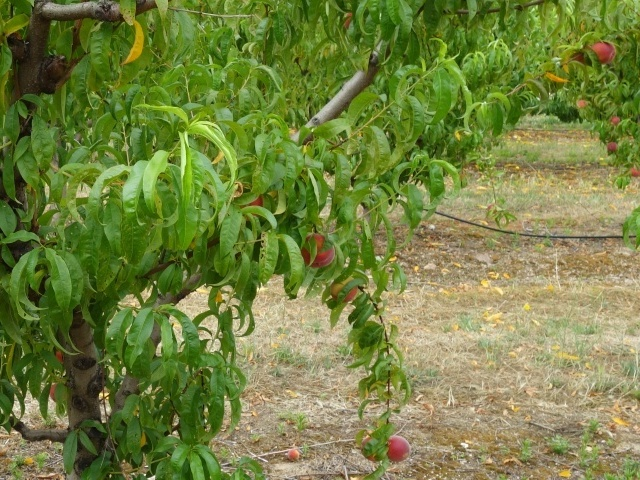peach: (299, 230, 340, 271), (327, 271, 362, 307), (381, 432, 414, 466), (587, 37, 618, 67)
